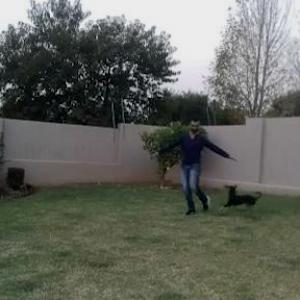land: (160, 117, 236, 207)
